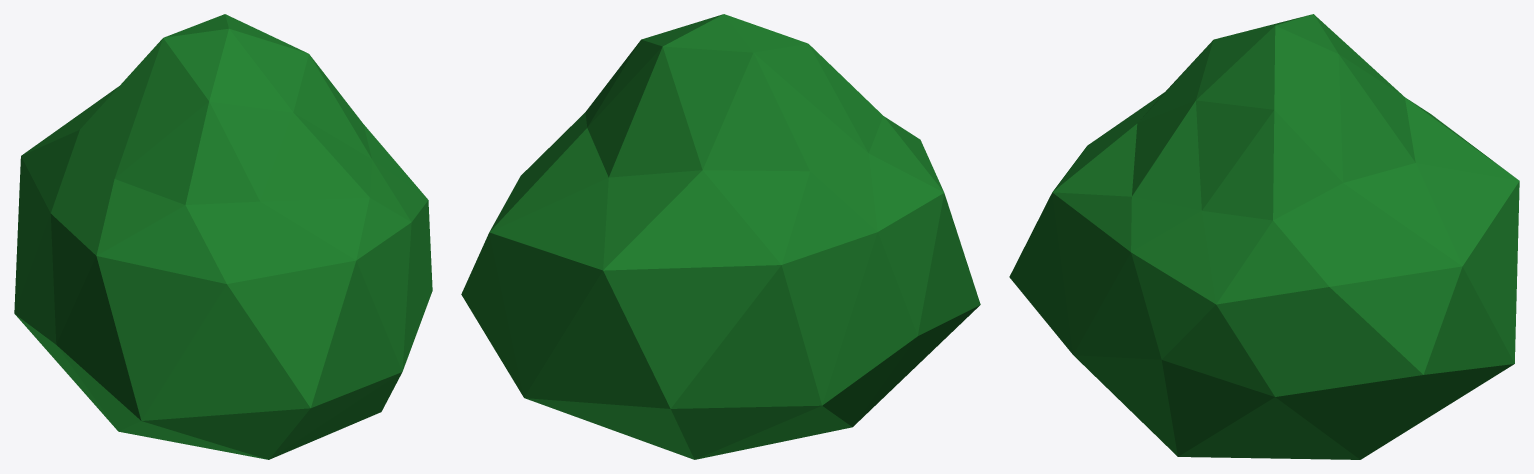
The model's file is Bush_02.fbx.
3 renders of one model, left to right at view 1: azimuth 30°, elevation 25°; view 2: azimuth 150°, elevation 25°; view 3: azimuth 270°, elevation 25°, orthographic. The views are drawn at different scales.
Visible parts, largest first — view 1: Icosphere; view 2: Icosphere; view 3: Icosphere.
Part boxes in pixels (<box>): Icosphere: <box>14,14,432,459</box>; Icosphere: <box>461,14,980,459</box>; Icosphere: <box>1009,14,1519,459</box>.
Size of the model in its own units: 154 by 168 by 189.
